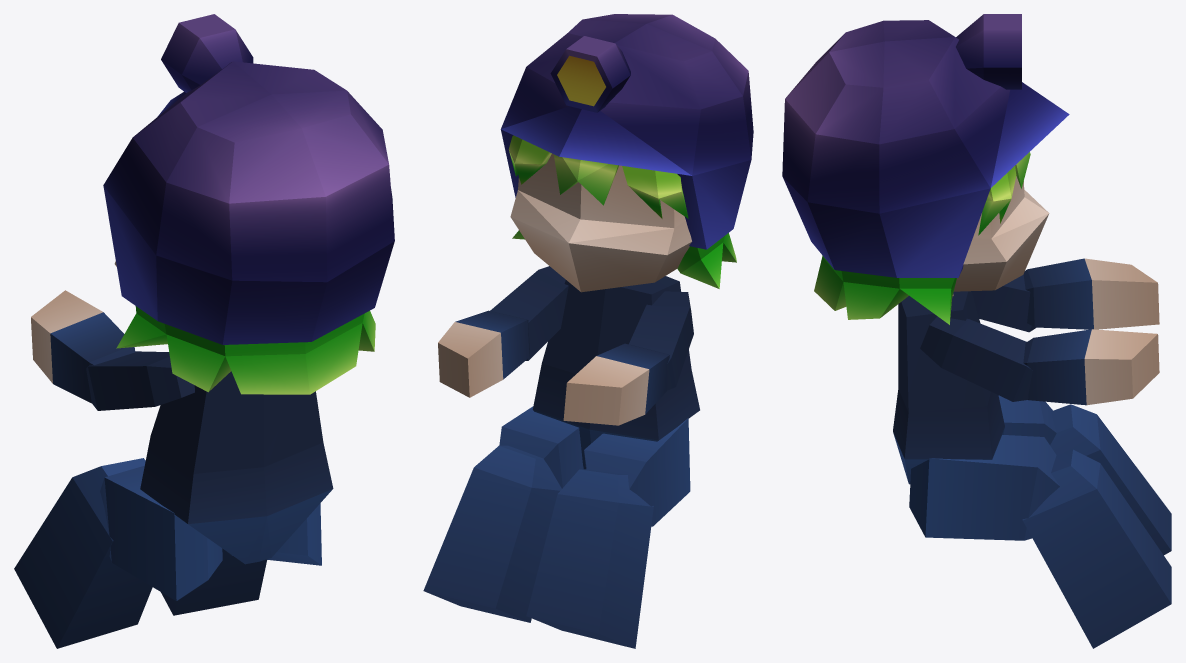
File: Character_driver_sit.gltf
3 renders of one model, left to right at view 1: azimuth 30°, elevation 25°; view 2: azimuth 150°, elevation 25°; view 3: azimuth 270°, elevation 25°, orthographic. The views are drawn at different scales.
Parts seen in each view (by area): view 1: Character_driver_sit; view 2: Character_driver_sit; view 3: Character_driver_sit.
Boxes of the visible parts, <box> form: Character_driver_sit: <box>14,14,394,648</box>; Character_driver_sit: <box>423,14,753,648</box>; Character_driver_sit: <box>782,14,1171,648</box>.
Size of the model in its own units: 0.6693 by 1.69 by 1.03.
1 material, 1 textured.
